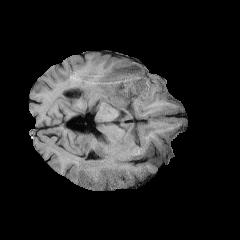glioma: (97, 62, 151, 107)
